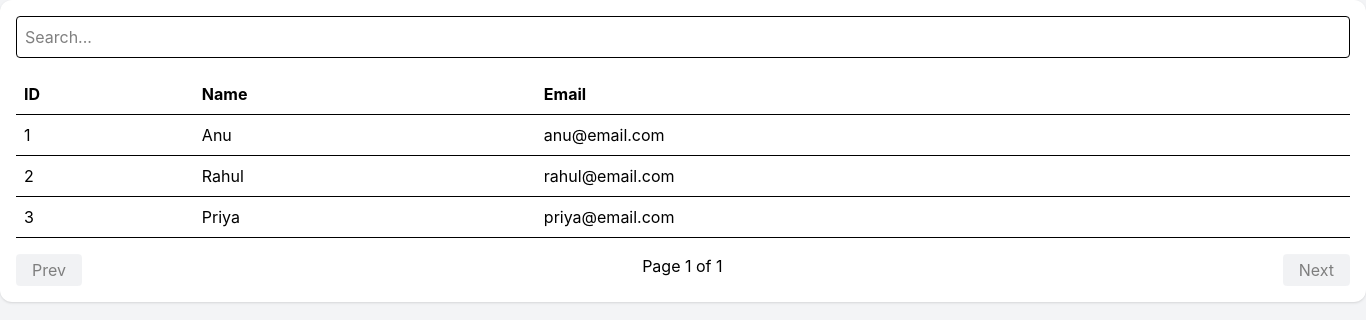
Test: Table Component › filters results based on search
This screenshot has width=1366, height=320.
Type "Rahul" into the field with placeholder "Search..." at (683, 37), box [16, 16, 1350, 58]
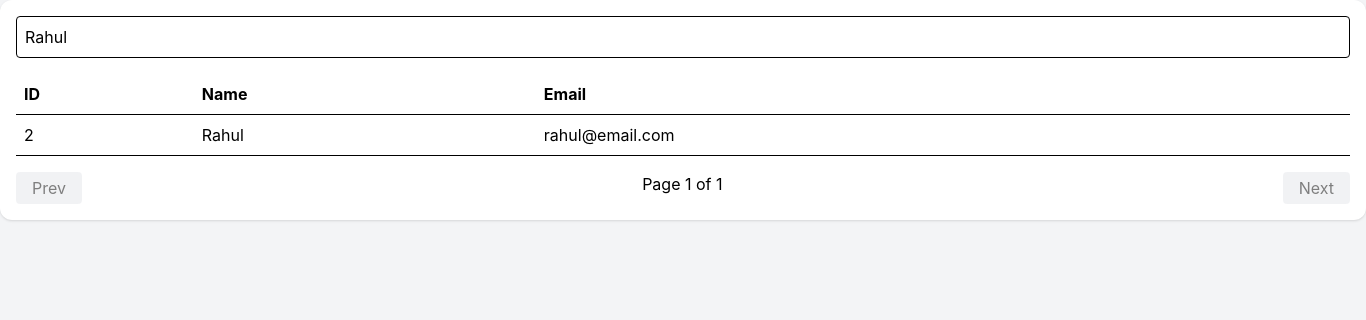
Result: the text "Rahul" is shown at [194, 114, 536, 156]
Result: the text "Anu" is gone
